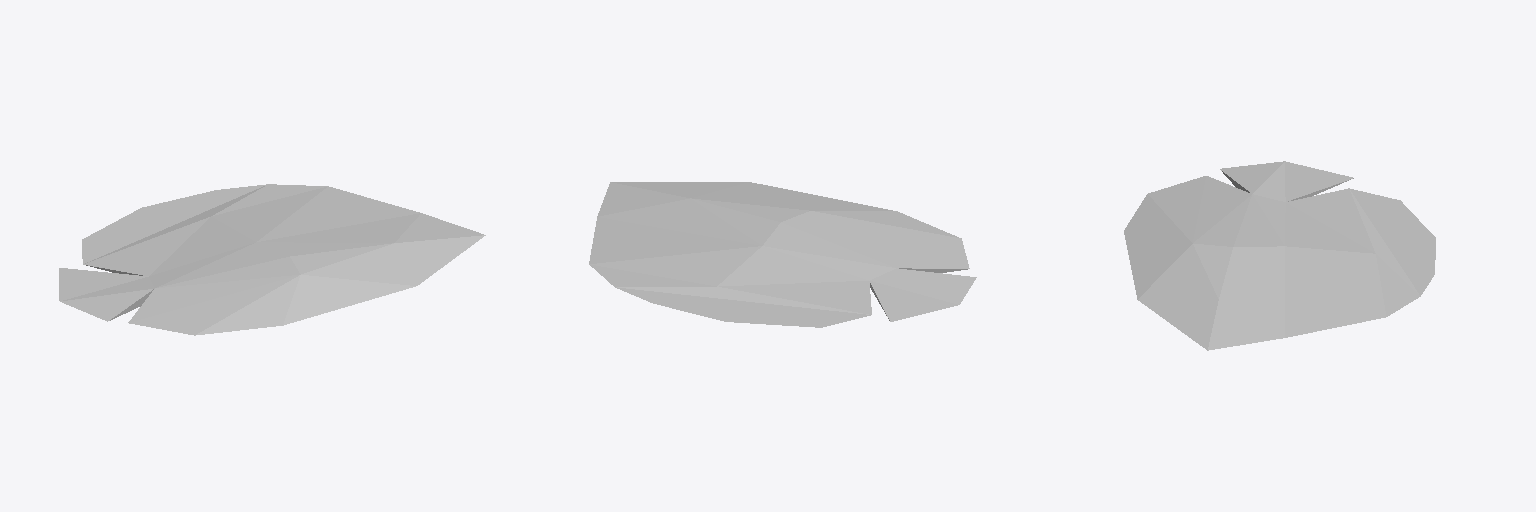
File: reef fish 1.obj
The picture shows the model from 3 angles: view 1: azimuth 30°, elevation 25°; view 2: azimuth 150°, elevation 25°; view 3: azimuth 270°, elevation 25°; orthographic projection.
Parts seen in each view (by area): view 1: Plane_Plane.002; view 2: Plane_Plane.002; view 3: Plane_Plane.002.
Part boxes in pixels (x1,y1,x2,y2): Plane_Plane.002: (59,184,485,335); Plane_Plane.002: (589,182,976,327); Plane_Plane.002: (1124,161,1435,350).
Size of the model in its own units: 1.98 by 0.1364 by 1.38.